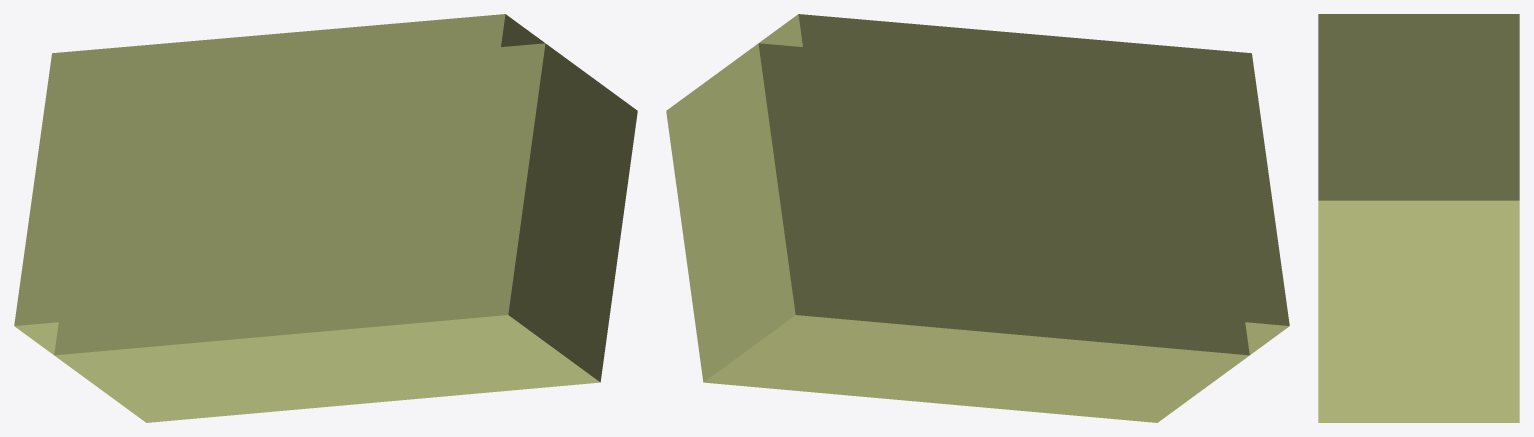
3 renders of one model, left to right at view 1: azimuth 30°, elevation 25°; view 2: azimuth 150°, elevation 25°; view 3: azimuth 270°, elevation 25°, orthographic. The views are drawn at different scales.
Parts seen in each view (by area): view 1: 0_3_0_2_2_1_0_2; view 2: 0_3_0_2_2_1_0_2; view 3: 0_3_0_2_2_1_0_2.
Boxes of the visible parts, x1,y1,x2,y2 form: 0_3_0_2_2_1_0_2: (14, 14, 637, 422); 0_3_0_2_2_1_0_2: (666, 14, 1289, 422); 0_3_0_2_2_1_0_2: (1318, 14, 1519, 422).
Size of the model in its own units: 18.44 by 11.98 by 8.6.
